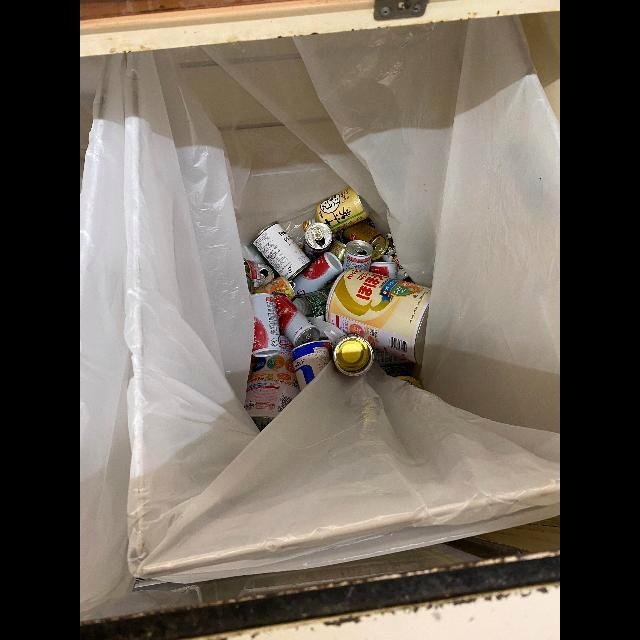aluminum: (325, 269, 431, 366), (244, 336, 300, 419), (252, 222, 311, 281), (303, 188, 373, 234), (272, 291, 320, 347), (290, 252, 344, 296), (251, 293, 282, 358), (291, 341, 331, 391), (341, 221, 389, 260), (332, 335, 373, 376), (381, 233, 413, 283), (291, 289, 330, 322), (303, 223, 332, 261), (253, 276, 296, 300), (343, 240, 373, 272), (243, 258, 261, 295), (369, 262, 398, 279), (329, 238, 346, 266), (257, 264, 274, 285)
